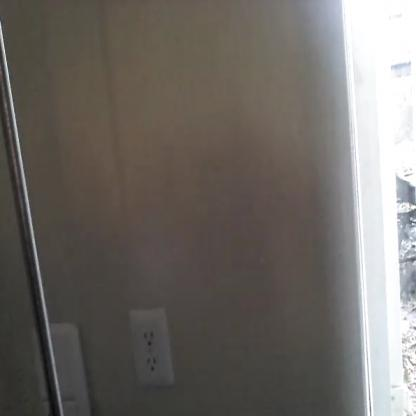OUTLET: (127, 308, 176, 388)
